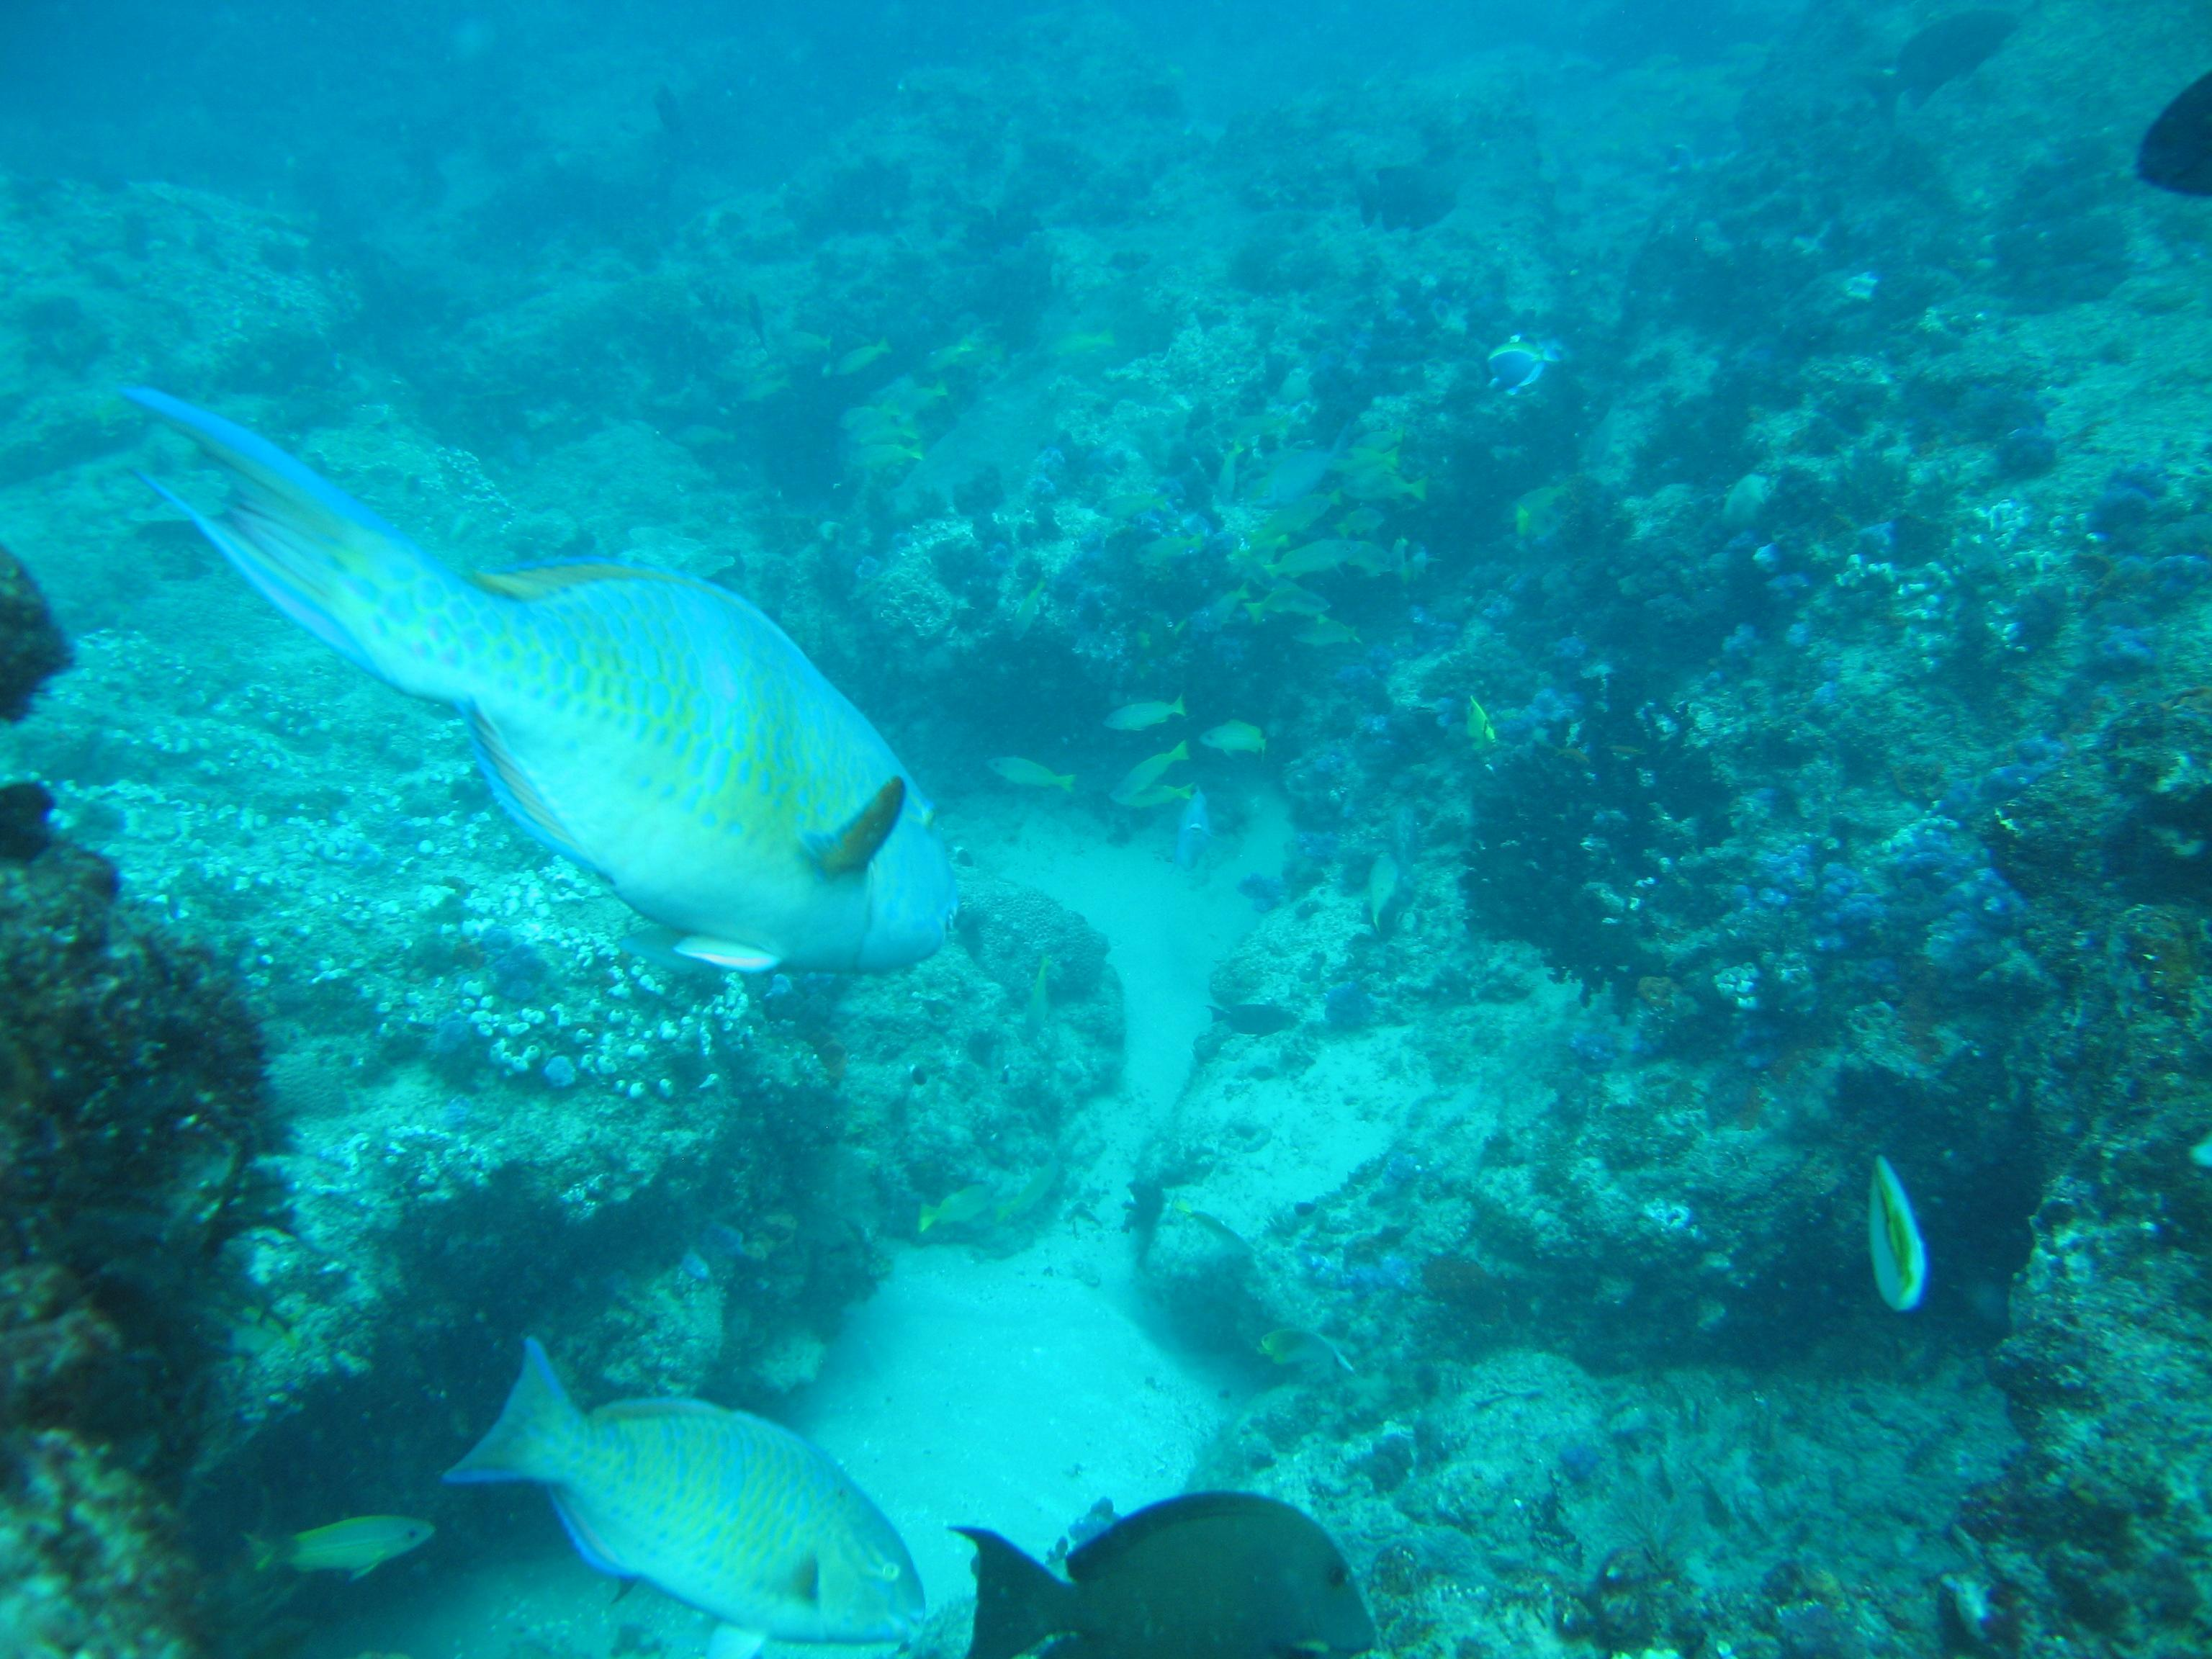Scarus rubroviolaceus: (127, 364, 965, 1012), (418, 1303, 995, 1659)
